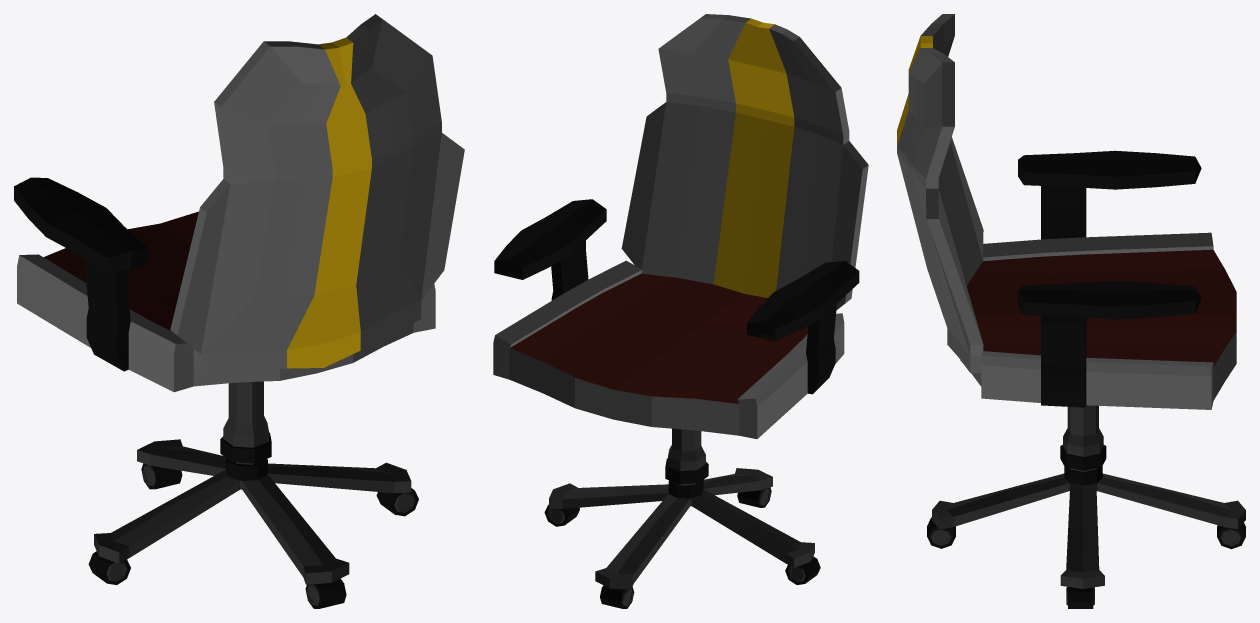
File: Office Chair 3.fbx
The picture shows the model from 3 angles, left to right: view 1: azimuth 30°, elevation 25°; view 2: azimuth 150°, elevation 25°; view 3: azimuth 270°, elevation 25°; orthographic projection. The views are drawn at different scales.
Parts seen in each view (by area): view 1: Node 0, Node 1; view 2: Node 0, Node 1; view 3: Node 0, Node 1.
Boxes of the visible parts, bbox=[...] form: Node 0: bbox=[14, 14, 464, 464]; Node 1: bbox=[88, 439, 418, 608]; Node 0: bbox=[493, 14, 868, 485]; Node 1: bbox=[544, 468, 820, 608]; Node 0: bbox=[897, 14, 1236, 471]; Node 1: bbox=[927, 466, 1245, 608].
Bounding box in the file's own units: 0.6826 × 1.09 × 0.723.
